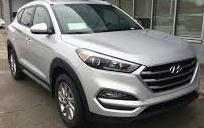SUV: (9, 3, 200, 128)
